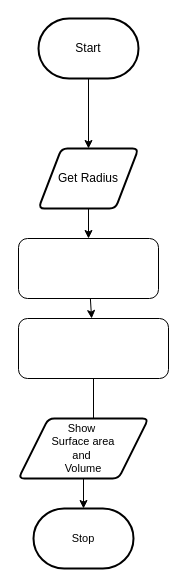
This 186x586 diagram has some shape labels left out. Each missing label, with the box of its shape:
Surface area = A=4 * π * r 2: (18, 238, 158, 298)
volume = V= 4 / 3 * π * r 3: (18, 318, 168, 378)
